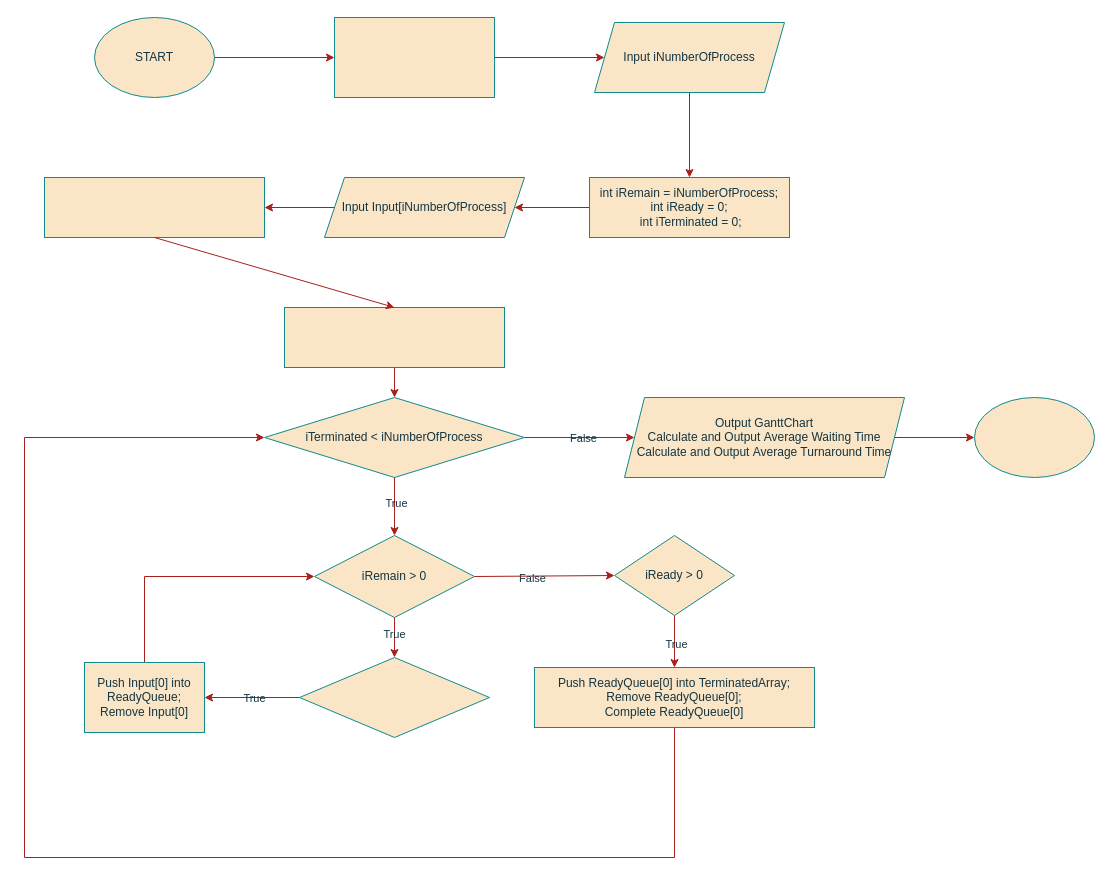
The diagram is 1112 pixels wide and 883 high, and some of its shapes have lost their labels. The shapes that lost their labels are listed below. From the top down, each one's centre as x and y in pixels, then its label:
(x=414, y=57): PCB Input[10]; PCB ReadyQueue[10]; PCB TerminatedArray[10];
(x=154, y=207): Sort (Input[iNumberOfProcess]) by ARRIVAL
(x=394, y=337): Push Input[0] into ReadyQueue; Remove Input[0] Complete ReadyQueue[0]
(x=1034, y=437): END
(x=394, y=697): Input[0].iArrival <= ReadyQueue[0].iFinish
